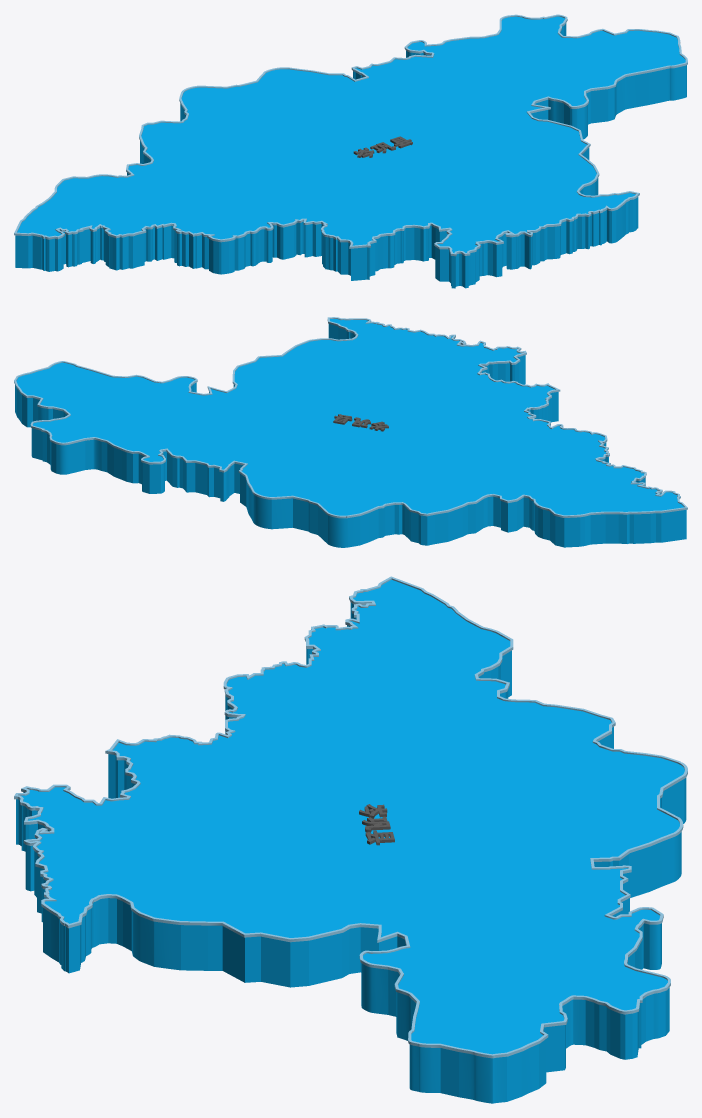
Rendered from zgx.gltf.
3 renders of one model, top to bottom at view 1: azimuth 30°, elevation 25°; view 2: azimuth 150°, elevation 25°; view 3: azimuth 270°, elevation 25°, orthographic. The views are drawn at different scales.
Parts seen in each view (by area): view 1: 封顶 1, 挤压.1, 扫描; view 2: 封顶 1, 挤压.1, 扫描; view 3: 封顶 1, 挤压.1, 扫描.
Boxes of the visible parts, x1,y1,x2,y2 form: 封顶 1: (17,16,685,252); 挤压.1: (15,23,686,288); 扫描: (14,14,687,256); 封顶 1: (16,319,683,515); 挤压.1: (15,324,686,547); 扫描: (14,317,687,518); 封顶 1: (21,579,684,1054); 挤压.1: (16,602,686,1103); 扫描: (14,576,687,1058).
Bounding box in the file's own units: 1085 × 53.7 × 645.
